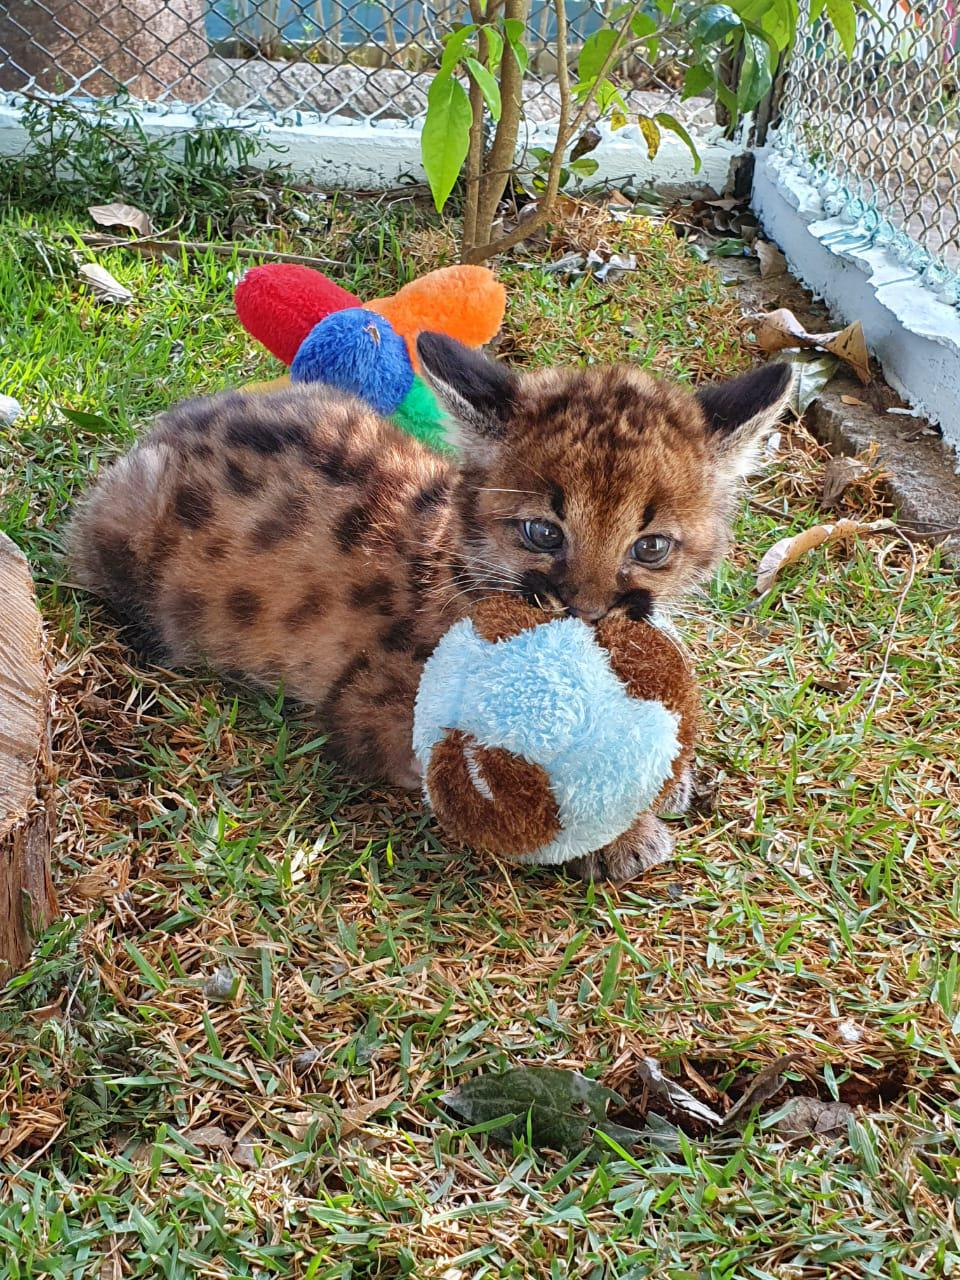OncaParda: (64, 340, 800, 904)
